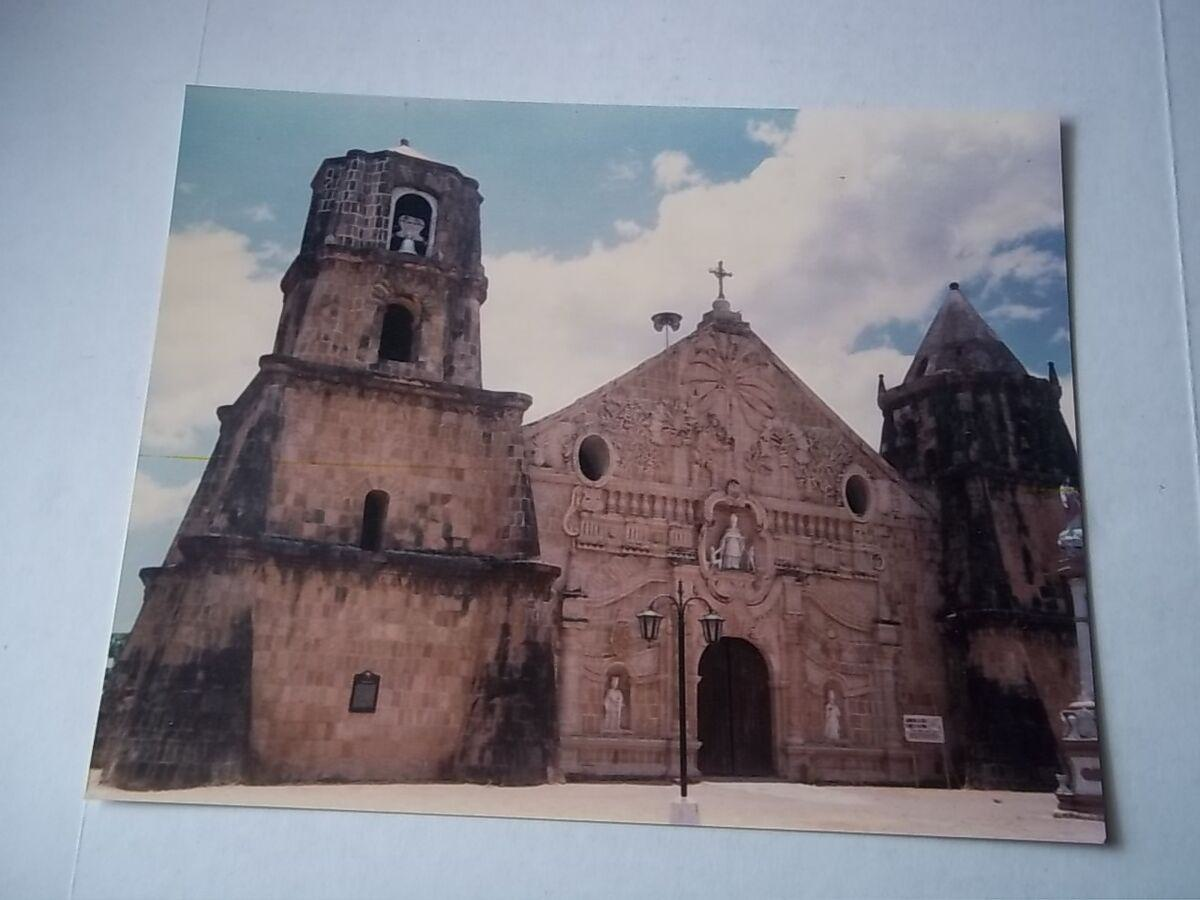miagao_church_miagao_iloilo: (174, 118, 1097, 795)
